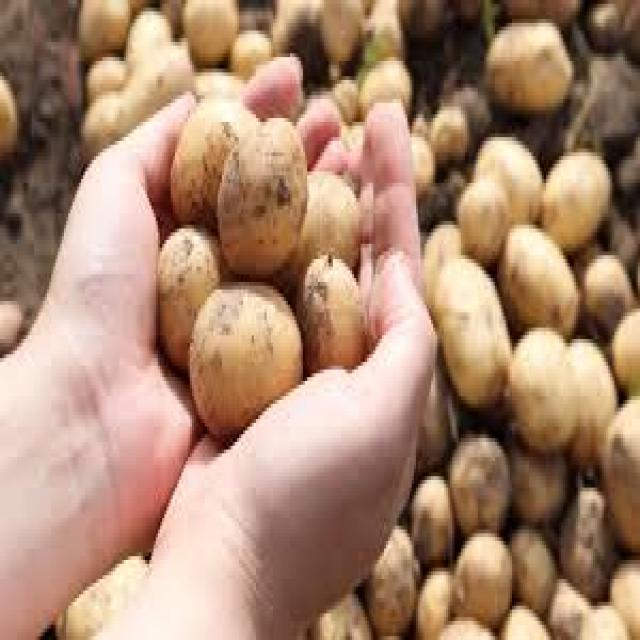potato: (190, 282, 303, 438), (218, 118, 307, 278), (435, 255, 514, 408), (512, 328, 582, 453), (489, 19, 576, 114), (454, 533, 514, 629)
